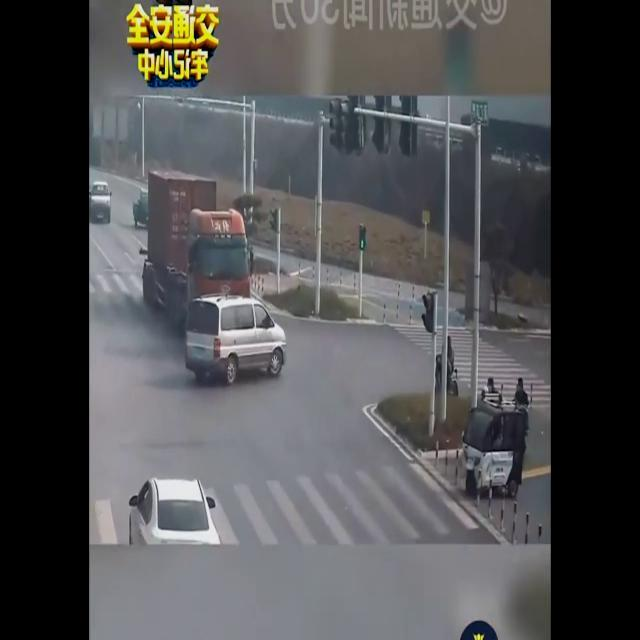accident: (138, 169, 288, 387)
